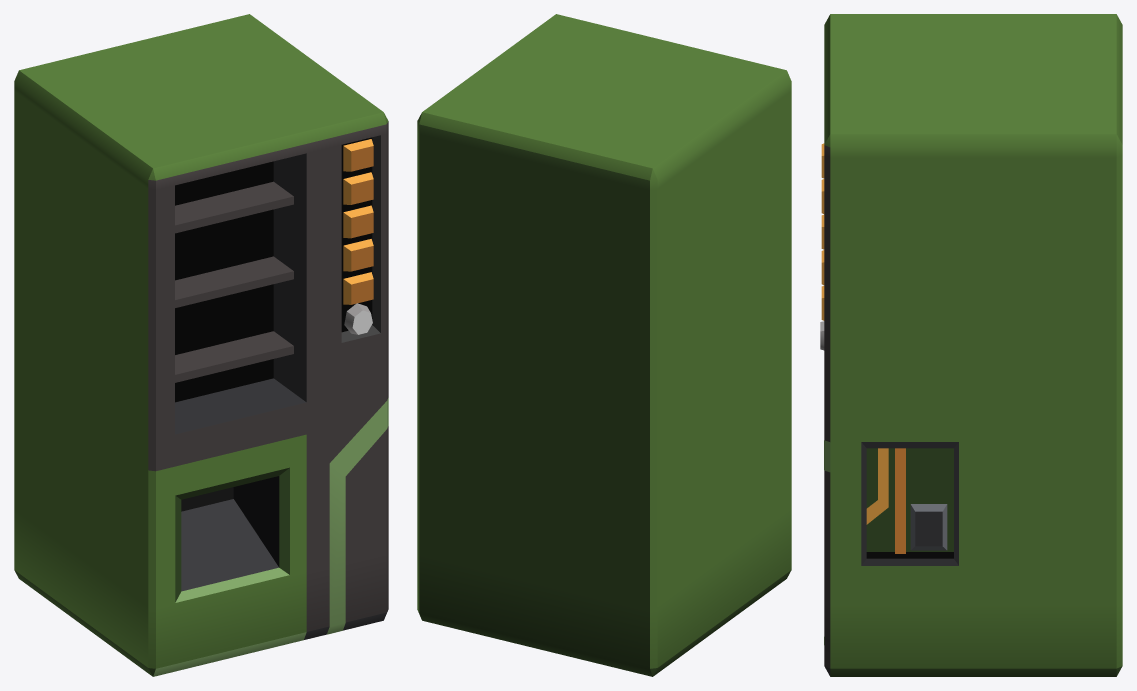
The model's file is MegaSeed.glb.
The picture shows the model from 3 angles, left to right: view 1: azimuth 30°, elevation 25°; view 2: azimuth 150°, elevation 25°; view 3: azimuth 270°, elevation 25°; orthographic projection. The views are drawn at different scales.
Parts seen in each view (by area): view 1: MegaSeed; view 2: MegaSeed; view 3: MegaSeed.
Part boxes in pixels (x1,y1,x2,y2): MegaSeed: (14, 14, 388, 676); MegaSeed: (417, 14, 791, 676); MegaSeed: (820, 14, 1122, 676).
Bounding box in the file's own units: 0.8911 × 1.8 × 0.9082.
2 materials, 1 textured.
